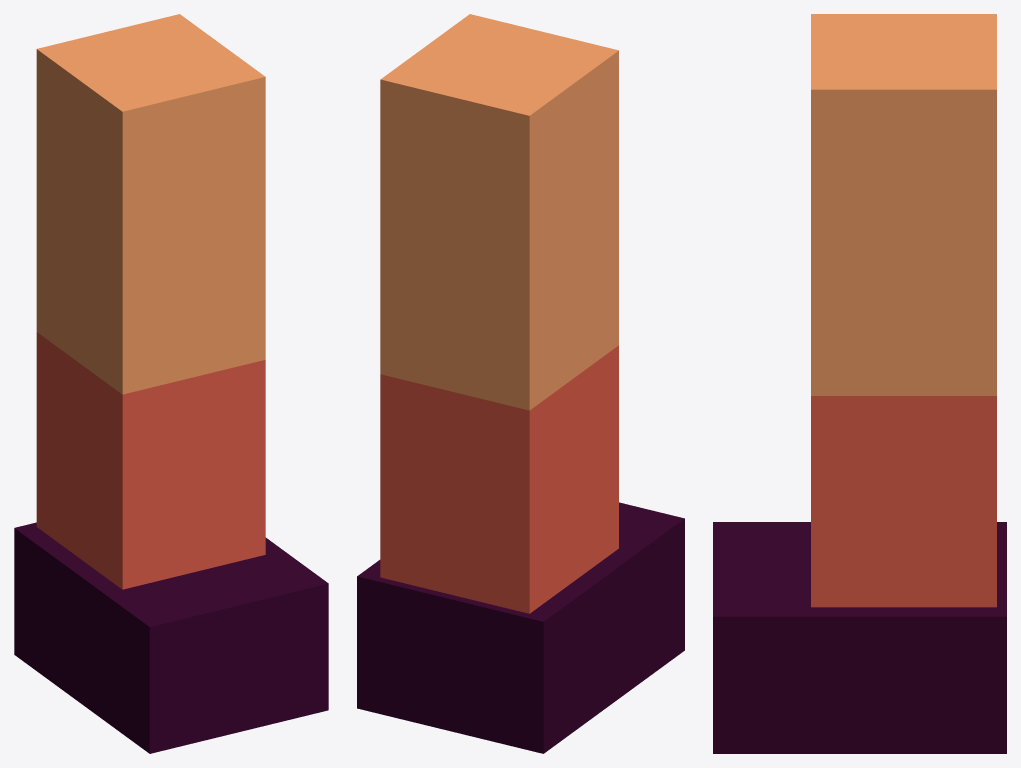
File: player_leg.glb
3 views of the same model, side by side, from view 1: azimuth 30°, elevation 25°; view 2: azimuth 150°, elevation 25°; view 3: azimuth 270°, elevation 25° (orthographic). The views are drawn at different scales.
Visible parts, largest first — view 1: Leg; view 2: Leg; view 3: Leg.
Part boxes in pixels (x1,y1,x2,y2): Leg: (14,14,328,753); Leg: (357,14,684,753); Leg: (713,14,1006,753).
Size of the model in its own units: 0.192 by 0.62 by 0.252.
